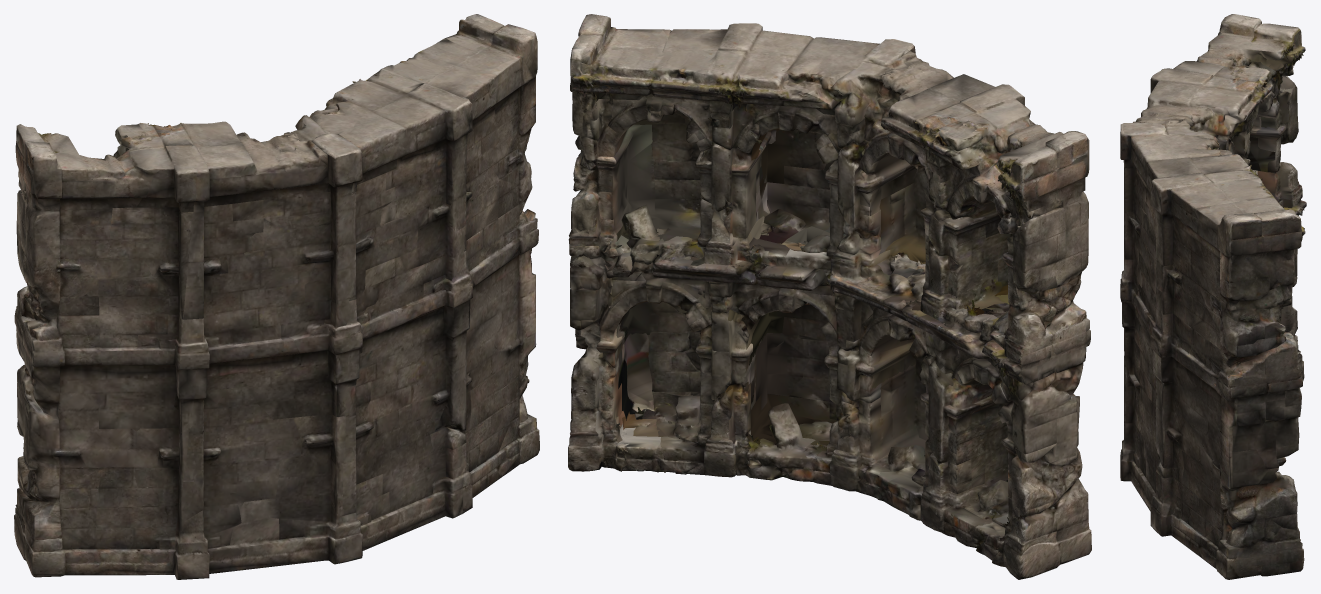
Rendered from Dungeon_wall.glb.
3 views of the same model, side by side, from view 1: azimuth 30°, elevation 25°; view 2: azimuth 150°, elevation 25°; view 3: azimuth 270°, elevation 25° (orthographic). The views are drawn at different scales.
Parts seen in each view (by area): view 1: YVO3D.obj; view 2: YVO3D.obj; view 3: YVO3D.obj.
Boxes of the visible parts, left/top/right/bottom form: YVO3D.obj: left=14, top=14, right=539, bottom=579; YVO3D.obj: left=568, top=14, right=1091, bottom=579; YVO3D.obj: left=1120, top=14, right=1306, bottom=579.
Size of the model in its own units: 0.9796 by 0.7792 by 0.3663.
Materials: 1 (1 with a texture image).
